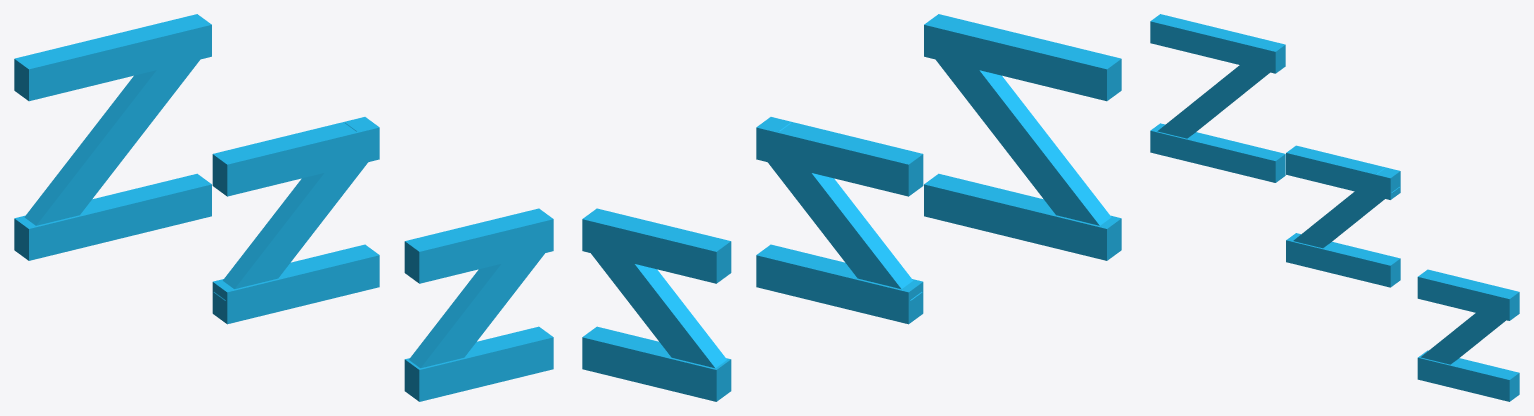
File: DeepSleepA.fbx
3 views of the same model, side by side, from view 1: azimuth 30°, elevation 25°; view 2: azimuth 150°, elevation 25°; view 3: azimuth 330°, elevation 25° (orthographic). The views are drawn at different scales.
Visible parts, largest first — view 1: Cube.009, Cube.003, Cube.006; view 2: Cube.009, Cube.003, Cube.006; view 3: Cube.009, Cube.003, Cube.006.
Part boxes in pixels (x1,y1,x2,y2): Cube.009: [14, 14, 211, 260]; Cube.003: [212, 117, 379, 324]; Cube.006: [404, 208, 553, 401]; Cube.009: [924, 14, 1121, 260]; Cube.003: [756, 117, 923, 324]; Cube.006: [582, 208, 731, 401]; Cube.009: [1150, 14, 1285, 182]; Cube.003: [1286, 145, 1400, 287]; Cube.006: [1417, 269, 1519, 401].
Bounding box in the file's own units: 155 × 121 × 7.5.
